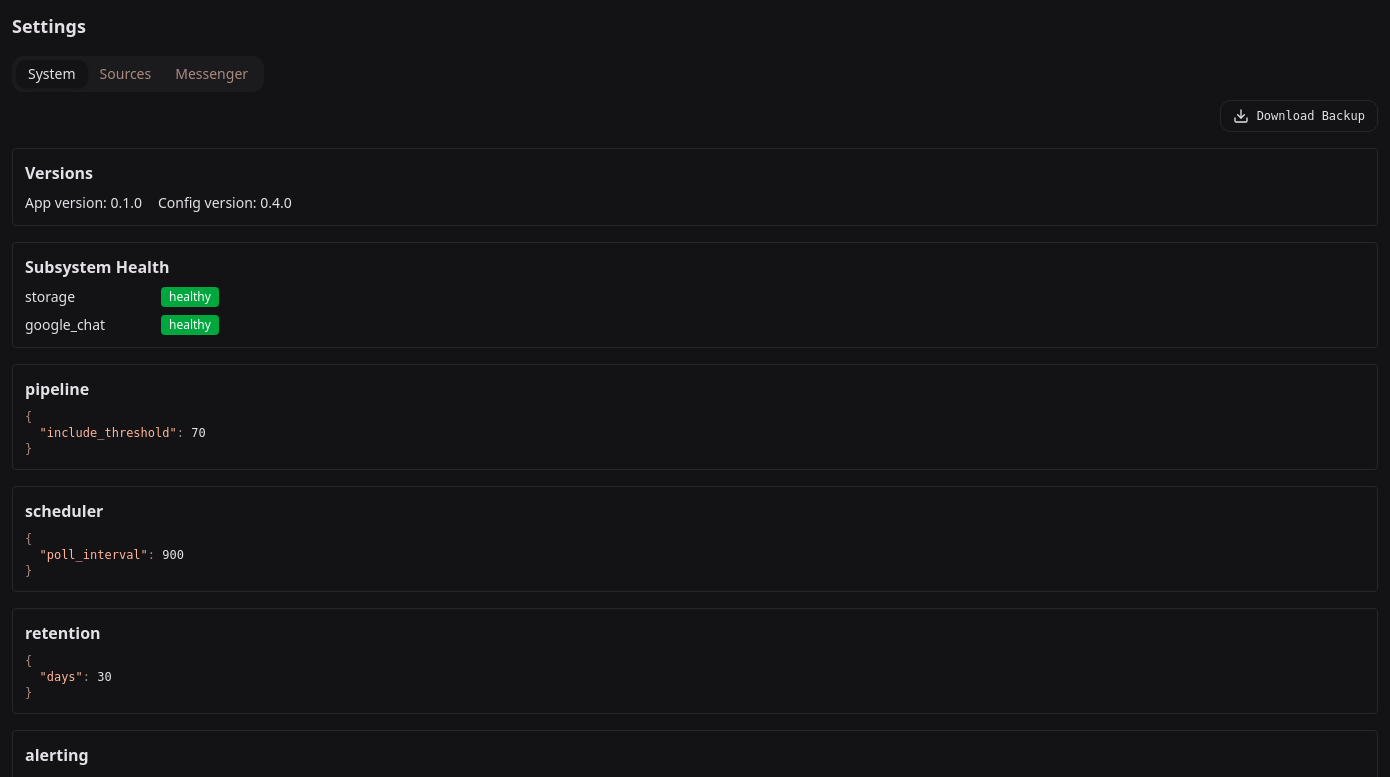
Test: Settings page — tab container › clicking Sources tab renders Sources content
Click the tab "Sources". click: (125, 74)
box: [88,60,163,88]
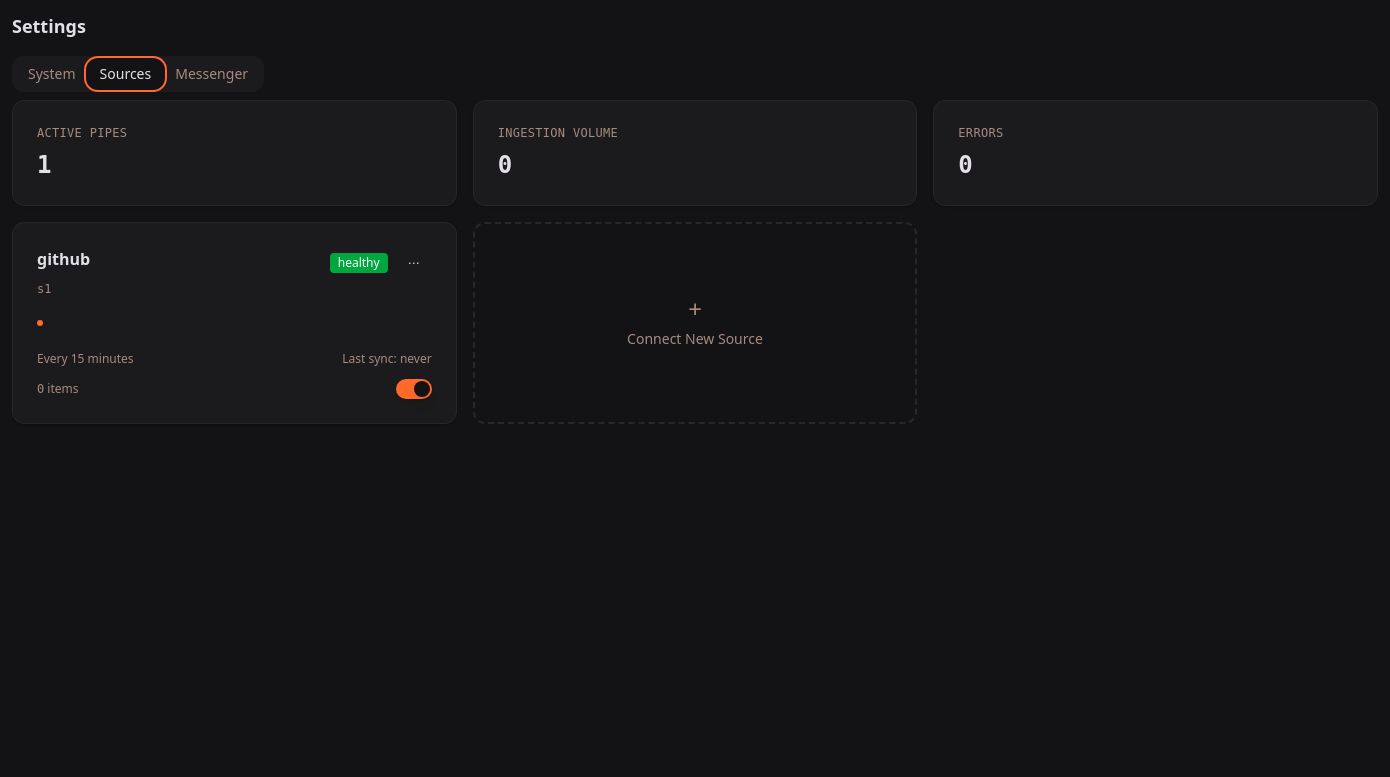
Expected: the text "github" is shown, [37,247,90,271]
